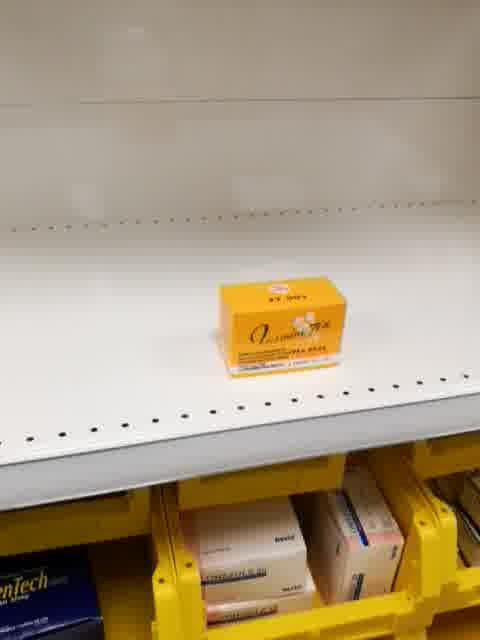jasminetea: (213, 273, 348, 384)
